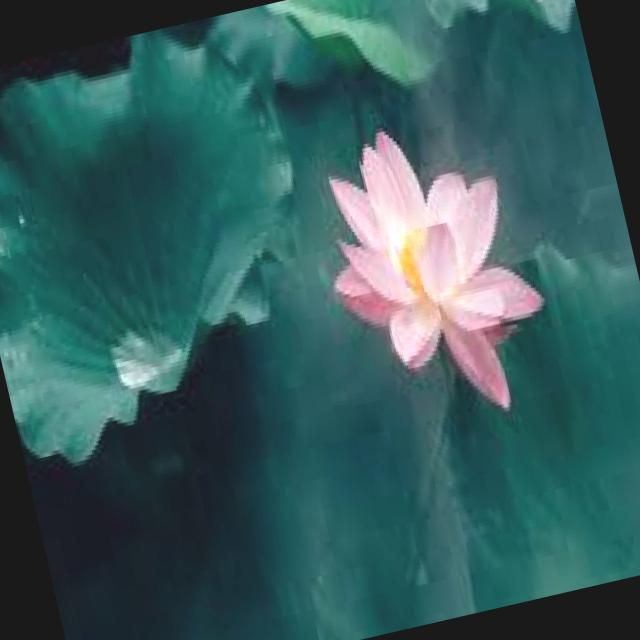lotus: (294, 90, 580, 468)
